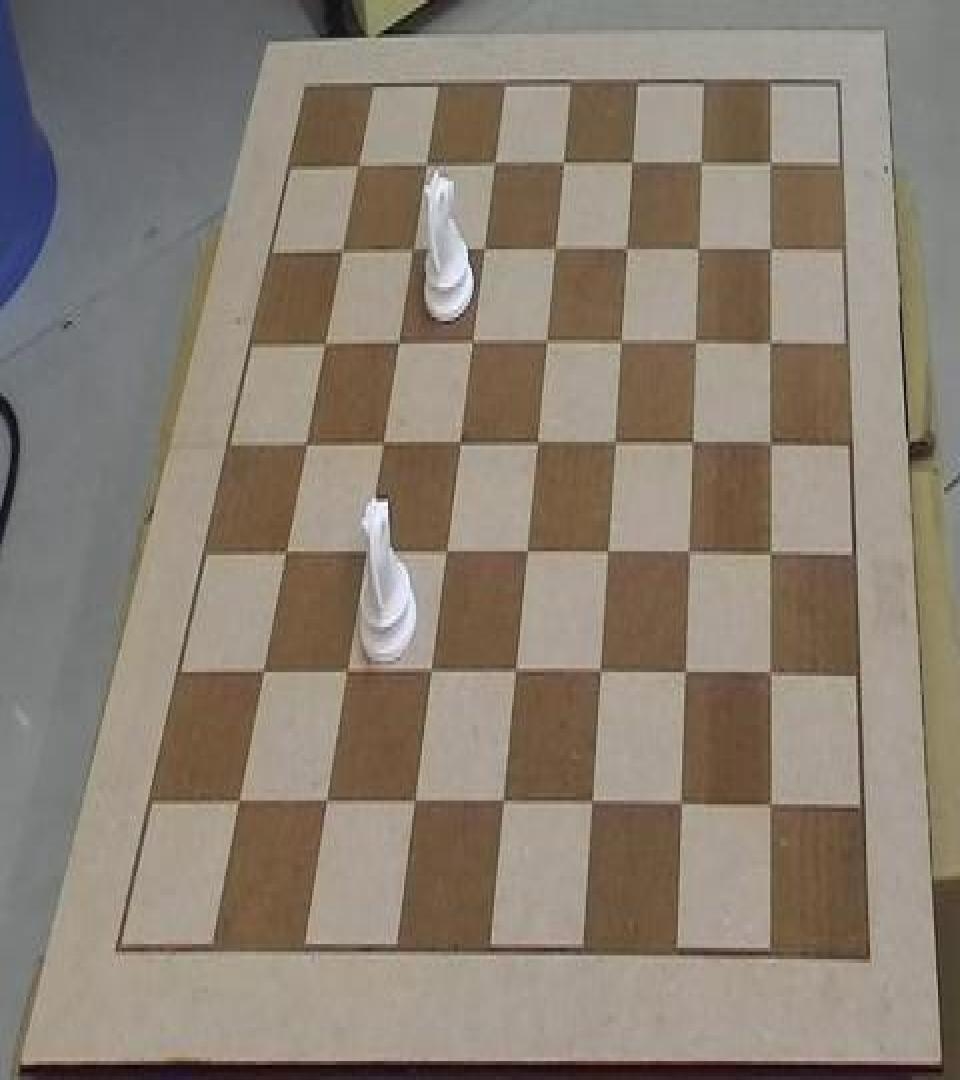xcorner: (761, 146, 781, 184), (691, 146, 711, 184), (622, 146, 642, 184), (554, 147, 574, 185), (485, 147, 505, 185), (417, 147, 437, 185), (349, 147, 369, 185), (761, 230, 781, 268), (689, 230, 709, 268), (617, 232, 637, 270), (546, 232, 566, 270), (474, 232, 494, 270), (404, 232, 424, 270), (333, 234, 353, 272), (761, 324, 781, 362), (686, 324, 706, 362), (611, 324, 631, 362), (537, 324, 557, 362), (463, 324, 483, 362), (389, 324, 409, 362), (316, 324, 336, 362), (761, 424, 781, 462), (683, 424, 703, 462), (605, 424, 625, 462), (527, 424, 547, 462), (450, 424, 470, 462), (373, 424, 393, 462), (297, 424, 317, 462), (761, 536, 781, 574), (679, 536, 699, 574), (598, 536, 618, 574), (517, 534, 537, 572), (436, 534, 456, 572), (356, 534, 376, 572), (276, 534, 296, 572), (762, 657, 782, 695), (676, 657, 696, 695), (590, 655, 610, 693), (505, 655, 525, 693), (421, 655, 441, 693), (337, 653, 357, 691), (253, 653, 273, 691), (762, 791, 782, 829), (672, 789, 692, 827), (582, 789, 602, 827), (493, 787, 513, 825), (404, 787, 424, 825), (316, 786, 336, 824), (228, 784, 248, 822)
